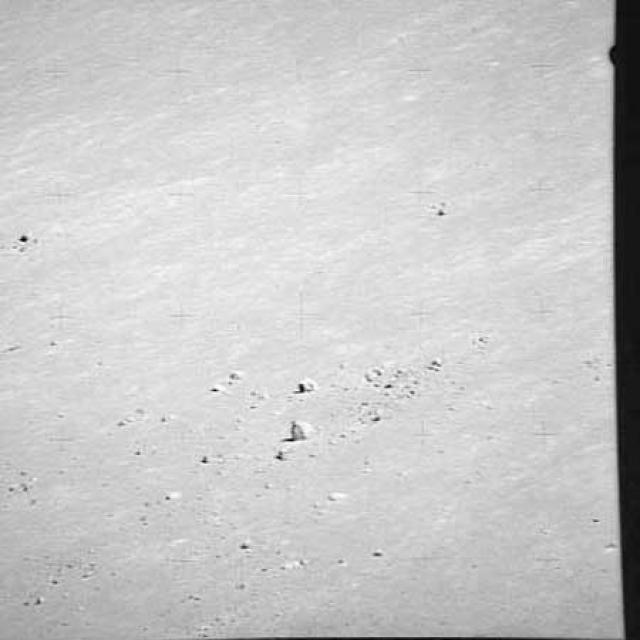rock: (285, 413, 321, 443), (289, 372, 323, 398)
